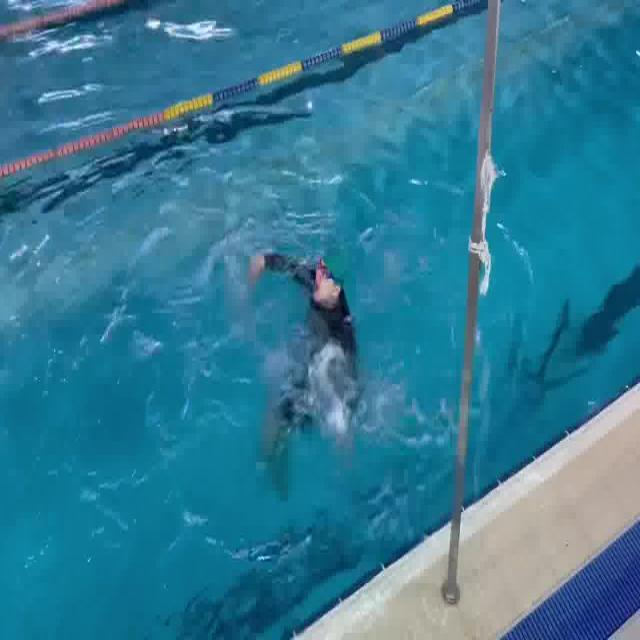Swimming: (223, 208, 390, 462)
